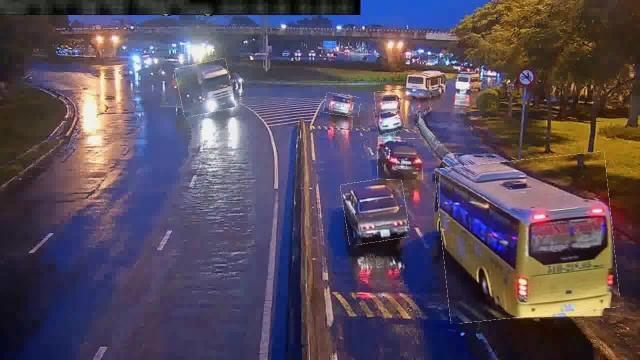Bus: (438, 156, 616, 320)
Car: (342, 178, 408, 244), (377, 138, 423, 180), (324, 94, 360, 116), (376, 108, 404, 134), (374, 91, 400, 113)
Truck: (177, 60, 233, 115)
